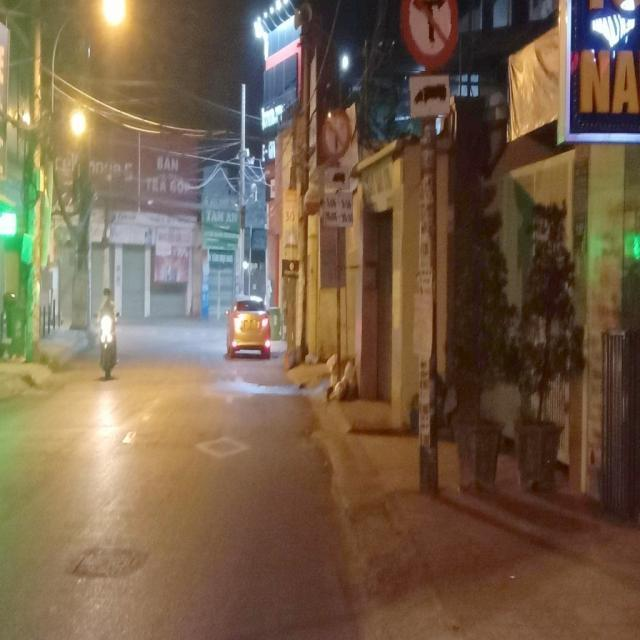137-cam-re-trai-va-re-phai: (398, 1, 458, 64), (322, 108, 352, 158)
